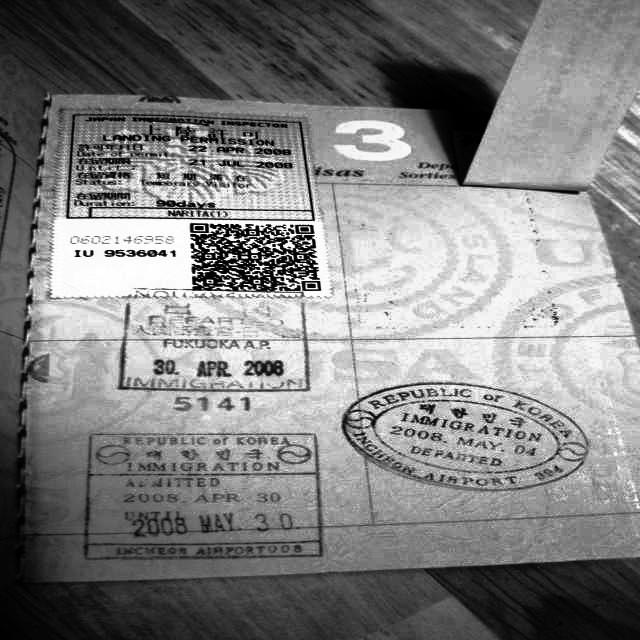qr_code: (191, 224, 321, 291)
